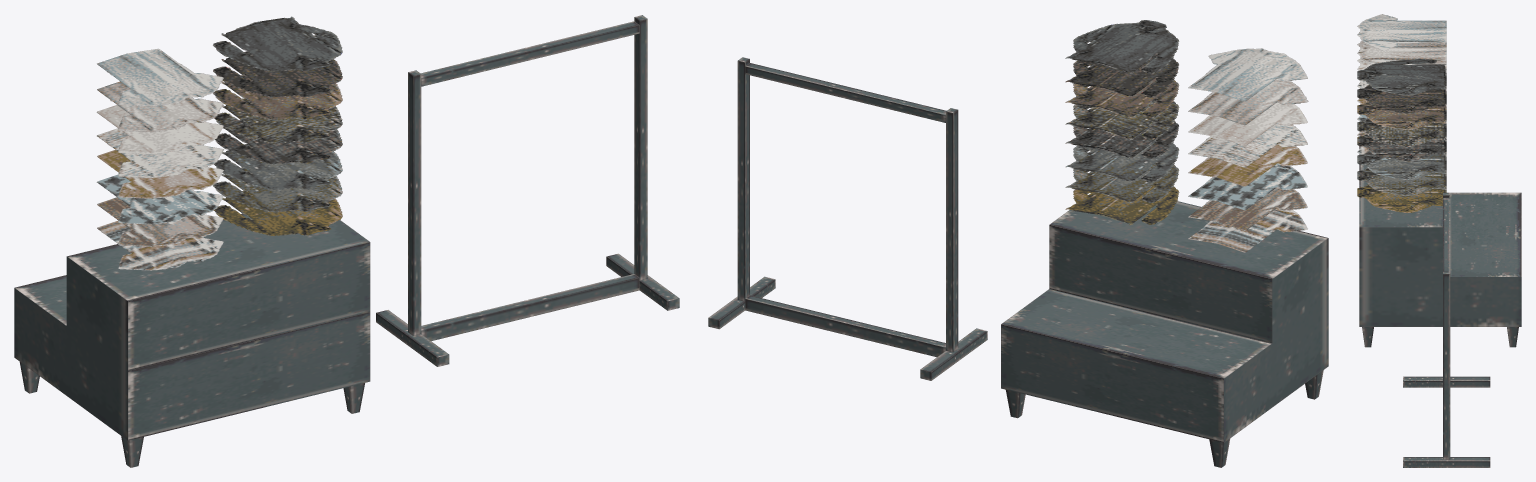
The model's file is Clothing Stands and Shirts.fbx.
3 renders of one model, left to right at view 1: azimuth 30°, elevation 25°; view 2: azimuth 150°, elevation 25°; view 3: azimuth 270°, elevation 25°, orthographic. The views are drawn at different scales.
Parts seen in each view (by area): view 1: Clothing Pedestal, Clothing Rack Stand, Jacket.007, Shirt.007, Jacket.006, Jacket.001, Jacket.004, Jacket.003, Shirt.002, Shirt.006, Jacket.005, Jacket.002 (+6 smaller); view 2: Clothing Pedestal, Clothing Rack Stand, Jacket.007, Shirt.007, Jacket.001, Jacket.006, Shirt.006, Shirt.002, Jacket.004, Jacket.003, Shirt, Shirt.004 (+6 smaller); view 3: Clothing Pedestal, Clothing Rack Stand, Jacket.007, Shirt.007, Jacket.001, Jacket.006, Jacket.004, Shirt.006, Jacket.003, Jacket.002, Jacket.005, Jacket (+1 smaller).
Part boxes in pixels (left/top/right/bottom): Clothing Pedestal: left=14, top=213, right=370, bottom=467; Clothing Rack Stand: left=376, top=15, right=679, bottom=366; Jacket.007: left=213, top=16, right=342, bottom=71; Shirt.007: left=97, top=48, right=223, bottom=106; Jacket.006: left=213, top=51, right=342, bottom=97; Jacket.001: left=213, top=143, right=342, bottom=189; Jacket.004: left=214, top=98, right=342, bottom=143; Jacket.003: left=214, top=190, right=342, bottom=235; Shirt.002: left=96, top=174, right=223, bottom=224; Shirt.006: left=97, top=81, right=223, bottom=132; Jacket.005: left=213, top=75, right=342, bottom=119; Jacket.002: left=213, top=167, right=342, bottom=212; Clothing Pedestal: left=1001, top=201, right=1328, bottom=467; Clothing Rack Stand: left=708, top=57, right=987, bottom=380; Jacket.007: left=1065, top=20, right=1179, bottom=73; Shirt.007: left=1188, top=48, right=1307, bottom=101; Jacket.001: left=1065, top=139, right=1179, bottom=182; Jacket.006: left=1065, top=54, right=1178, bottom=97; Shirt.006: left=1188, top=79, right=1308, bottom=125; Shirt.002: left=1188, top=163, right=1307, bottom=210; Jacket.004: left=1065, top=98, right=1179, bottom=139; Jacket.003: left=1065, top=183, right=1179, bottom=224; Shirt: left=1188, top=208, right=1307, bottom=252; Shirt.004: left=1188, top=123, right=1307, bottom=167; Clothing Pedestal: left=1359, top=146, right=1521, bottom=347; Clothing Rack Stand: left=1403, top=192, right=1490, bottom=467; Jacket.007: left=1357, top=59, right=1446, bottom=95; Shirt.007: left=1357, top=14, right=1446, bottom=51; Jacket.001: left=1357, top=151, right=1446, bottom=179; Jacket.006: left=1357, top=85, right=1446, bottom=113; Jacket.004: left=1357, top=118, right=1446, bottom=146; Shirt.006: left=1357, top=40, right=1446, bottom=64; Jacket.003: left=1357, top=184, right=1446, bottom=212; Jacket.002: left=1357, top=168, right=1446, bottom=195; Jacket.005: left=1357, top=102, right=1446, bottom=129; Jacket: left=1357, top=134, right=1446, bottom=161.
Size of the model in its own units: 384 by 227 by 132.
Materials: 2 (2 with a texture image).
